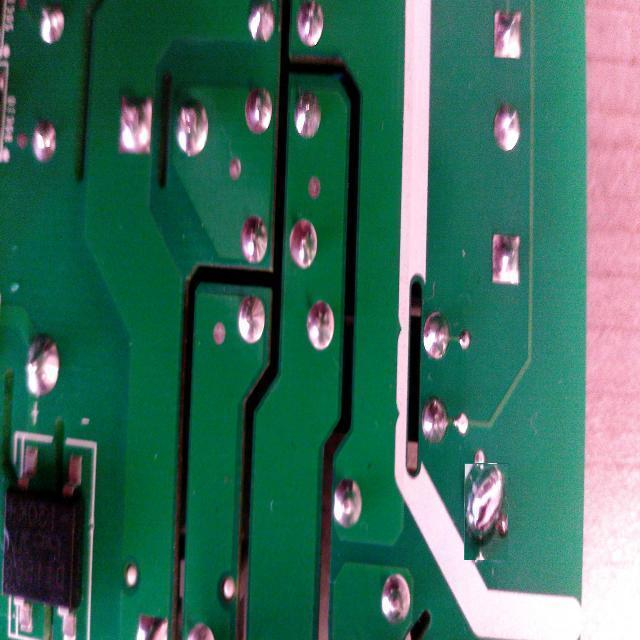Short_circuit: (464, 463, 508, 560)
